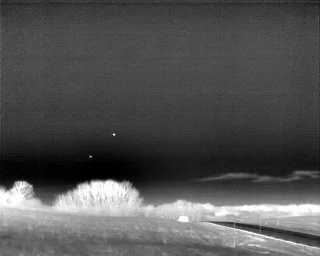BIRD: (111, 131, 117, 138)
